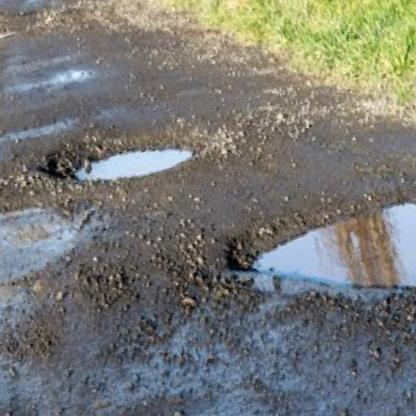pothole: (222, 157, 416, 338), (43, 109, 210, 206), (0, 178, 118, 295), (0, 17, 26, 52)
